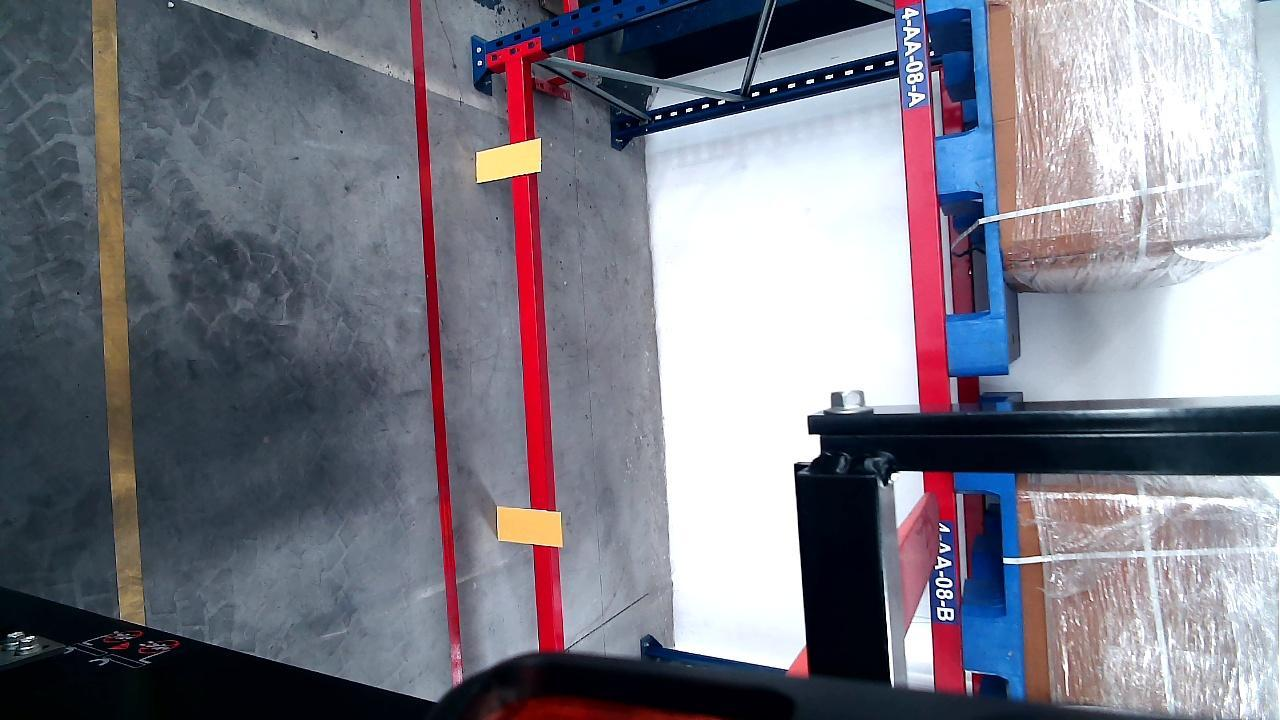red_line: (411, 1, 465, 688)
yellow_line: (90, 0, 146, 628)
